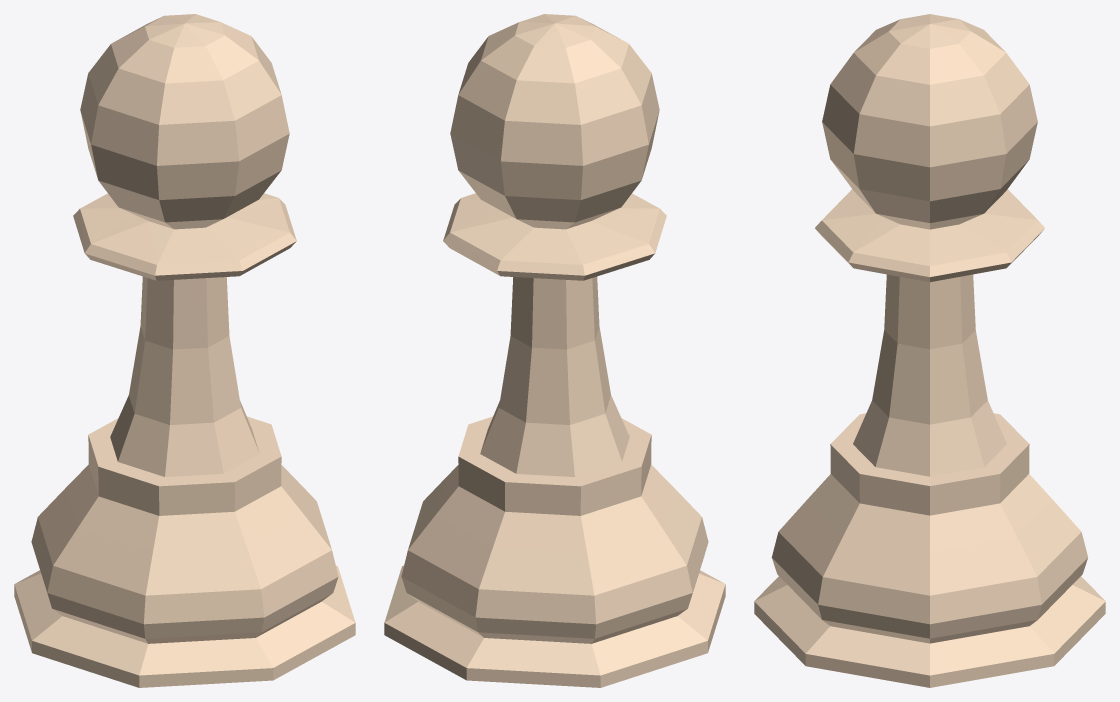
File: Pawn.glb
3 views of the same model, side by side, from view 1: azimuth 30°, elevation 25°; view 2: azimuth 150°, elevation 25°; view 3: azimuth 270°, elevation 25° (orthographic).
Visible parts, largest first — view 1: Node; view 2: Node; view 3: Node.
Part boxes in pixels (x1,y1,x2,y2): Node: (14, 14, 355, 687); Node: (384, 14, 725, 687); Node: (754, 14, 1105, 687).
Size of the model in its own units: 1.28 by 2.36 by 1.28.
